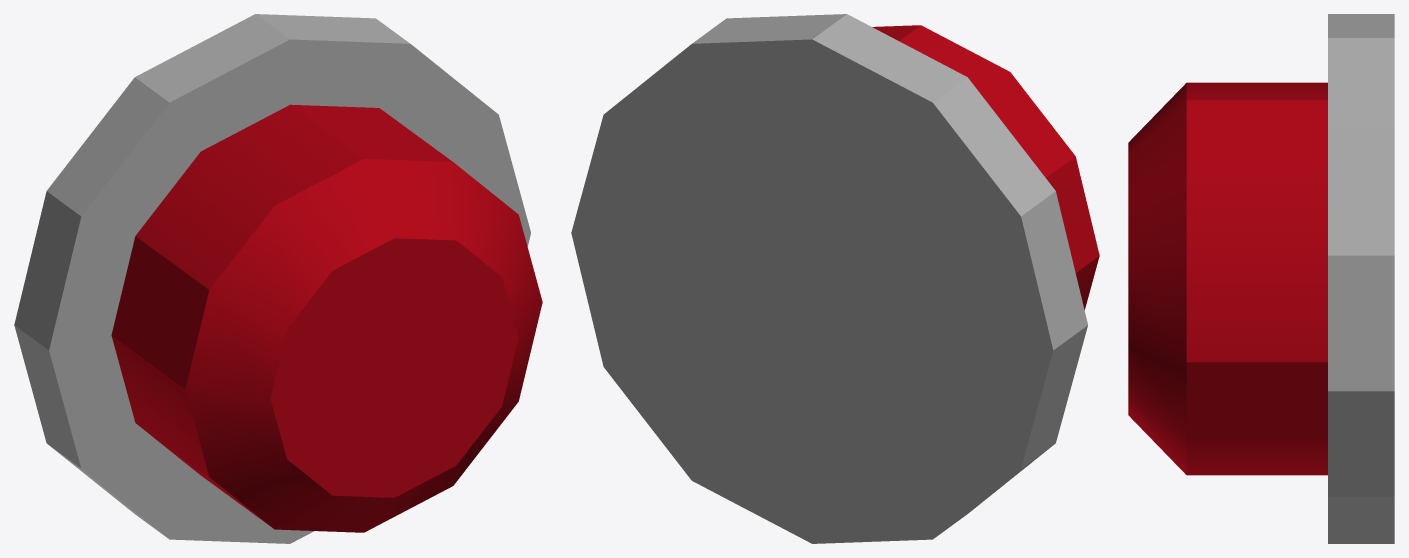
The model's file is Emergency Light Round.fbx.
The picture shows the model from 3 angles, left to right: view 1: azimuth 30°, elevation 25°; view 2: azimuth 150°, elevation 25°; view 3: azimuth 270°, elevation 25°; orthographic projection. The views are drawn at different scales.
Visible parts, largest first — view 1: pCylinder1; view 2: pCylinder1; view 3: pCylinder1.
Boxes of the visible parts, bbox=[...] form: pCylinder1: bbox=[14, 14, 542, 543]; pCylinder1: bbox=[571, 14, 1099, 543]; pCylinder1: bbox=[1128, 14, 1394, 543].
Size of the model in its own units: 16 by 16 by 8.
